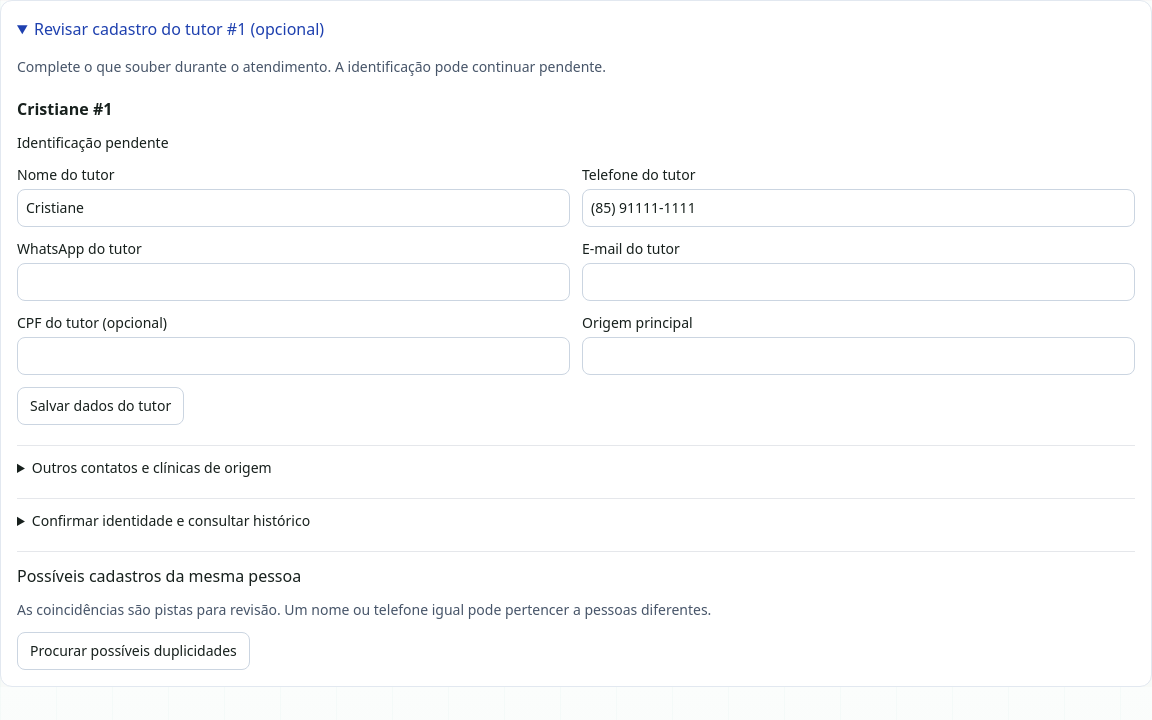
Revisão opcional do tutor durante o atendimento › só consulta candidatos quando solicitado e registra pessoas distintas com motivo
Expected: the element named "Complementar dados do tutor" is shown, top-left (17, 97), bottom-right (1135, 425)
Click the button "Procurar possíveis duplicidades". click: x=133, y=651
box: top-left (17, 632), bottom-right (250, 670)
(page scrolled)
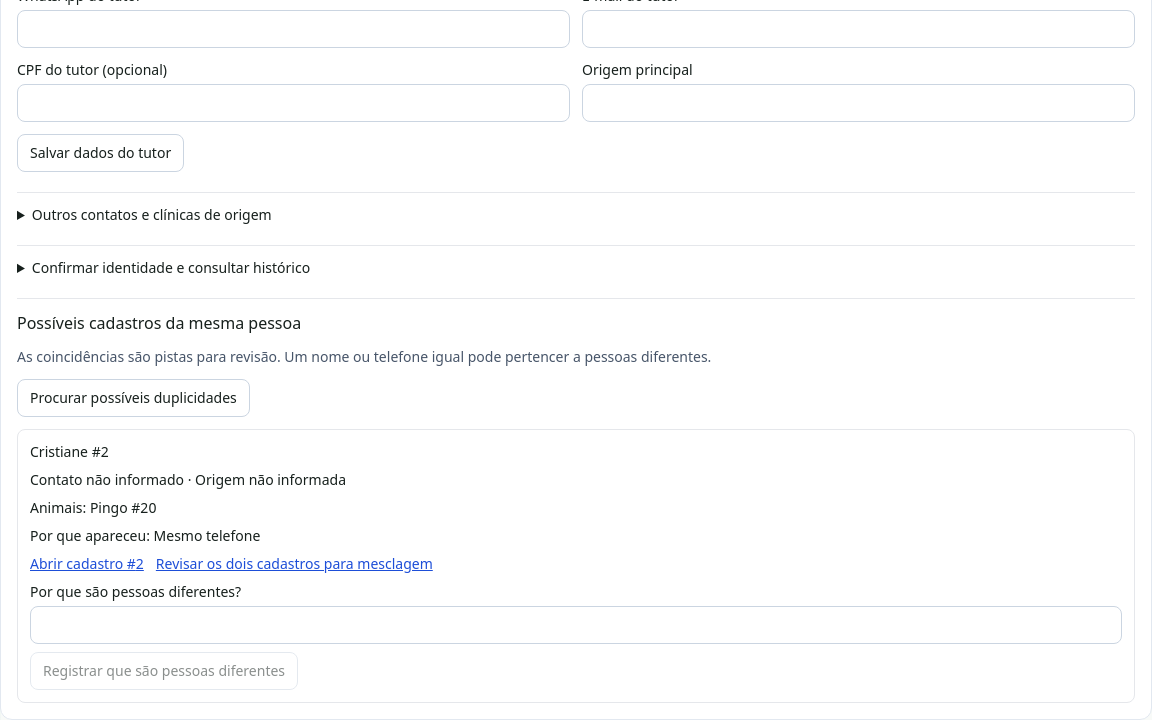
Expected: the text "Por que apareceu: Mesmo telefone" is shown, top-left (30, 526), bottom-right (260, 545)
Expected: the button "Registrar que são pessoas diferentes" is disabled, top-left (30, 652), bottom-right (298, 690)
Type "Telefone compartilhado da clínica." into the field labelled "Por que são pessoas diferentes?". click: x=576, y=625
box: top-left (30, 606), bottom-right (1122, 644)
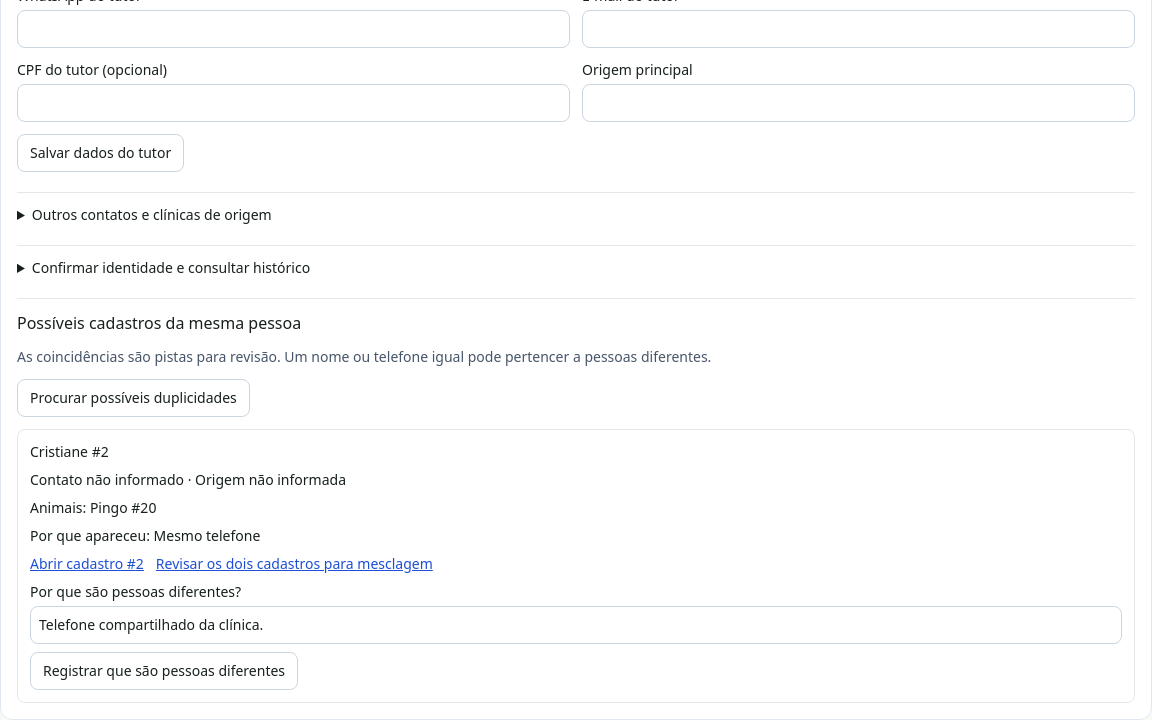
Click the button "Registrar que são pessoas diferentes". click: x=164, y=671
box: top-left (30, 652), bottom-right (298, 690)
(page scrolled)
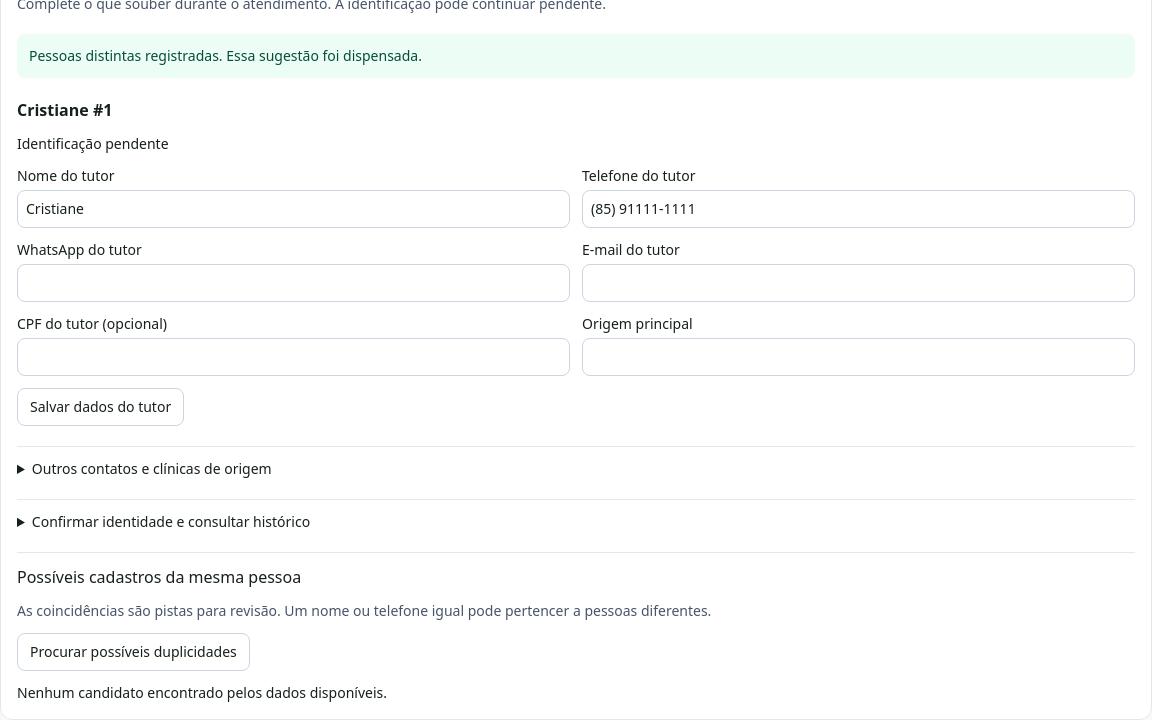
Expected: the text "Pessoas distintas registradas. Essa sugestão foi dispensada." is shown, top-left (17, 34), bottom-right (1135, 78)
